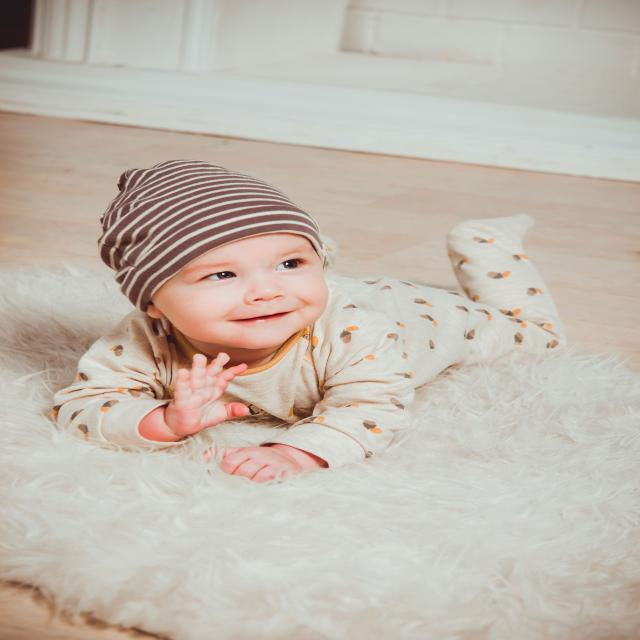child: (59, 157, 572, 478)
